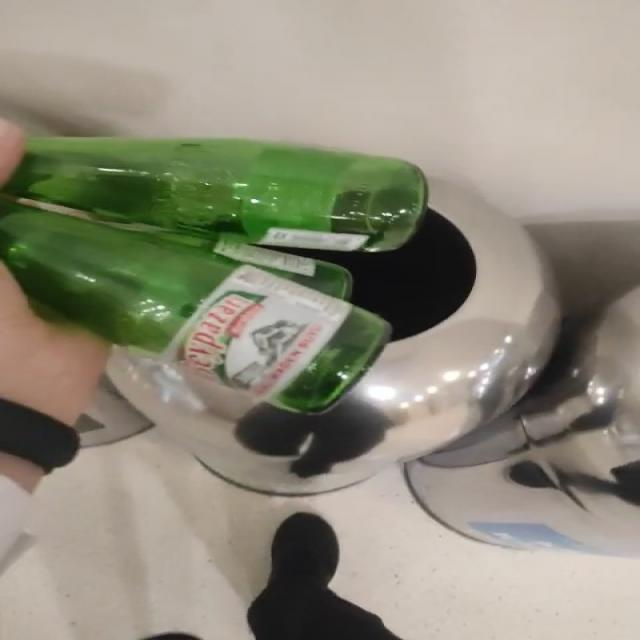Glass: (1, 138, 428, 412)
